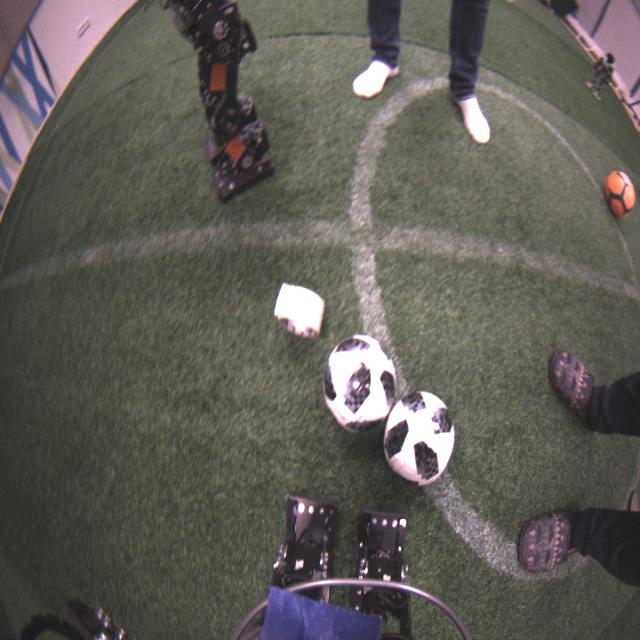ball: (324, 334, 396, 434), (386, 390, 456, 488), (604, 168, 636, 220)
